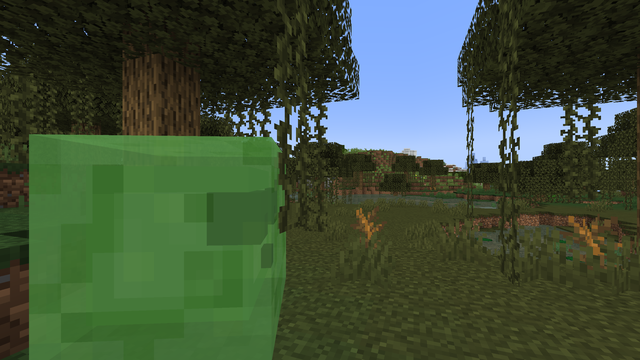slimes: (38, 116, 308, 355)
